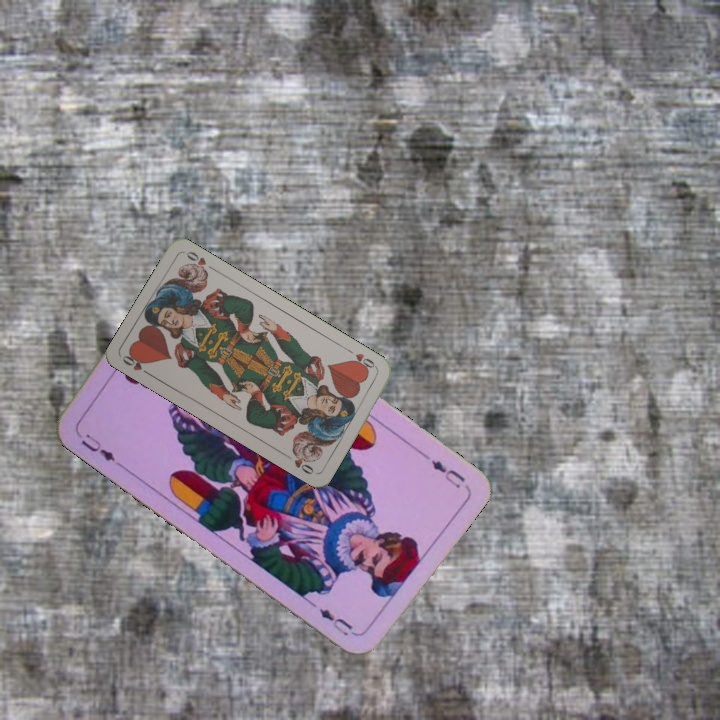EU: (72, 427, 123, 467), (427, 455, 468, 492)
HO: (118, 349, 155, 379), (343, 345, 380, 374)
